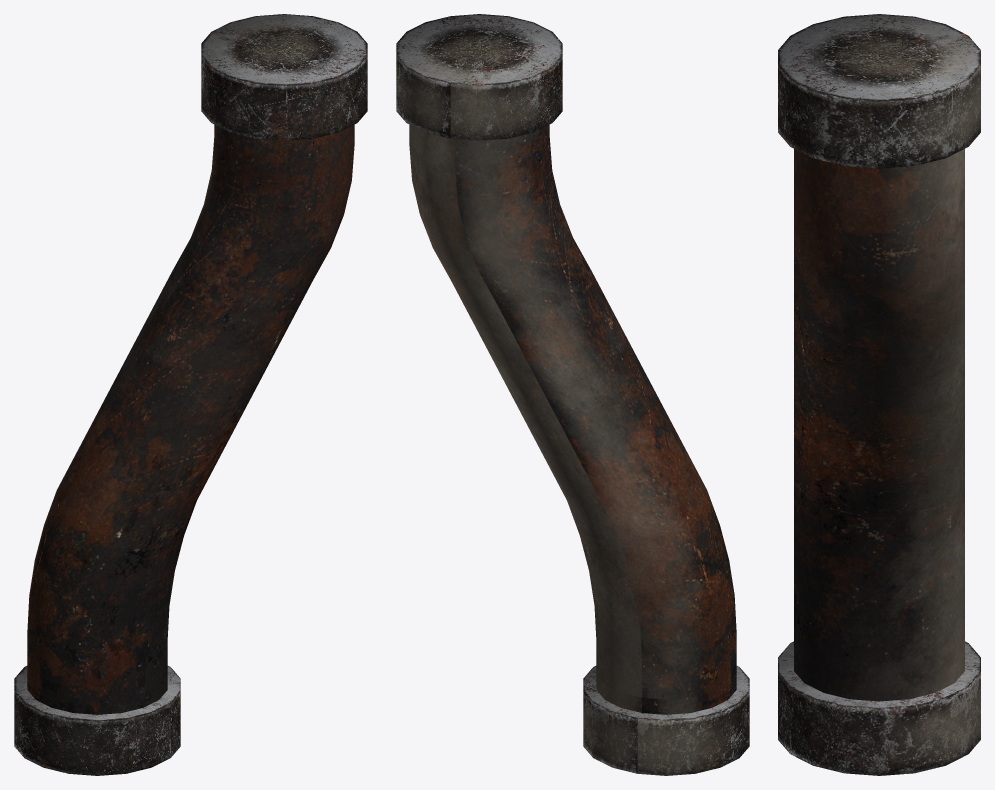
Rendered from SM_PipeTransition.FBX.
3 renders of one model, left to right at view 1: azimuth 30°, elevation 25°; view 2: azimuth 150°, elevation 25°; view 3: azimuth 270°, elevation 25°, orthographic. The views are drawn at different scales.
Visible parts, largest first — view 1: SM_PipeTransition; view 2: SM_PipeTransition; view 3: SM_PipeTransition.
Boxes of the visible parts, x1,y1,x2,y2 form: SM_PipeTransition: [14, 14, 367, 775]; SM_PipeTransition: [396, 14, 749, 775]; SM_PipeTransition: [778, 14, 980, 775].
Bounding box in the file's own units: 54.05 × 23.37 × 100.
